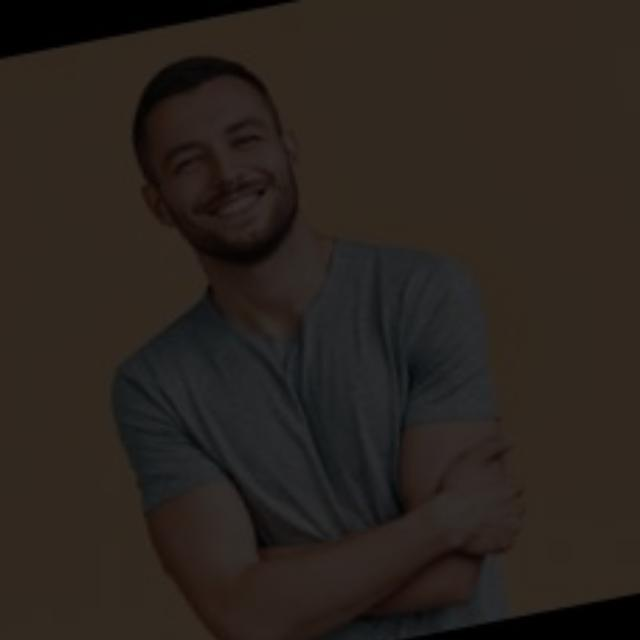Happy: (85, 86, 376, 301)
